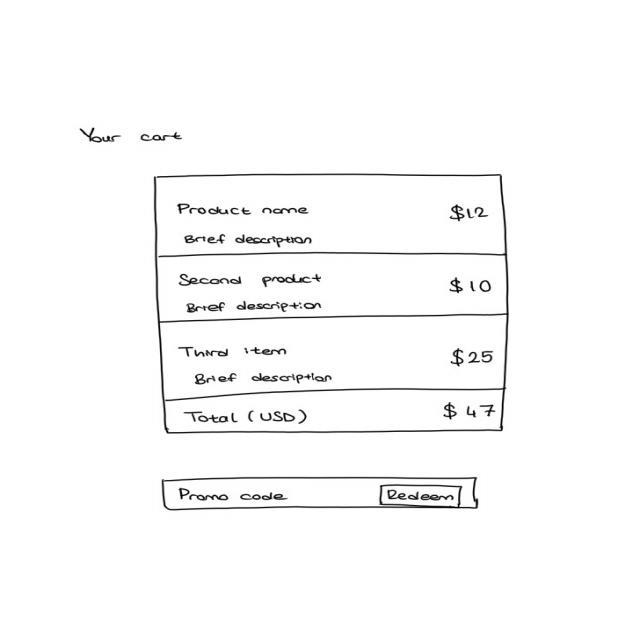button: (379, 484, 465, 508)
container: (159, 312, 515, 404), (151, 174, 511, 258), (154, 253, 512, 324), (162, 389, 508, 435), (162, 477, 482, 513)
label: (178, 272, 325, 290), (184, 409, 312, 427), (176, 202, 314, 218), (186, 300, 324, 316), (184, 234, 314, 250), (176, 486, 291, 504), (79, 126, 186, 145), (195, 373, 335, 387), (178, 346, 290, 361), (442, 403, 498, 423), (451, 348, 497, 371), (446, 276, 496, 296), (449, 204, 492, 223)
